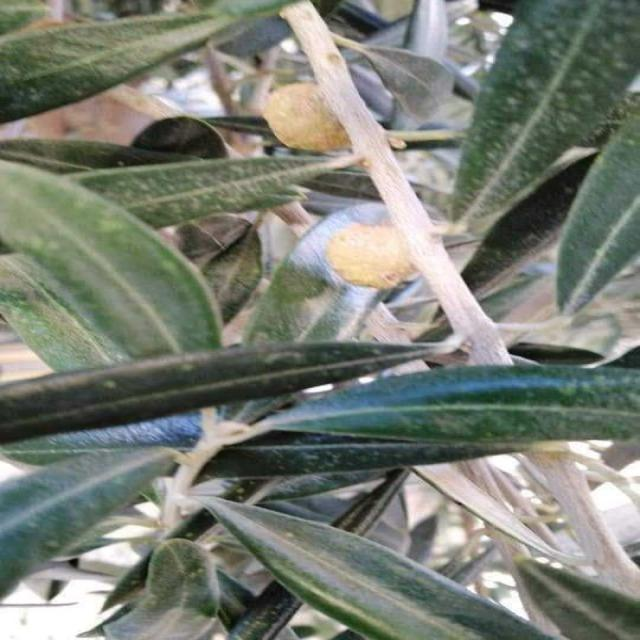Tuberculosis: (324, 222, 418, 291), (262, 82, 348, 153)
